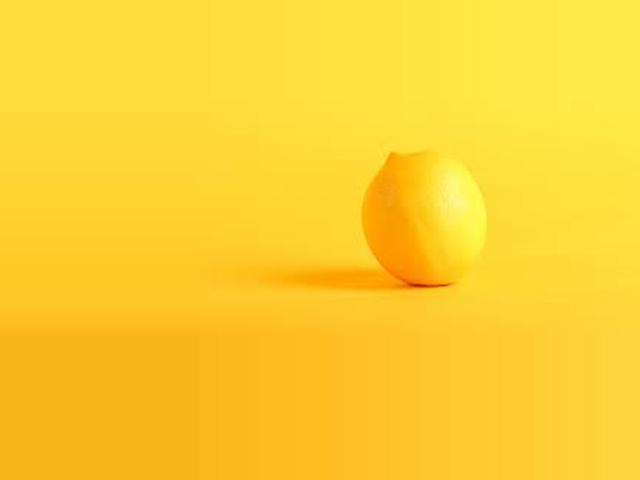lemon: (349, 133, 518, 289)
